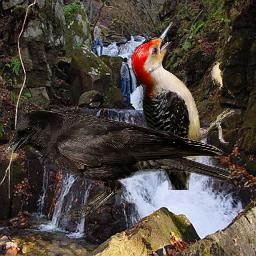Crow: (2, 109, 231, 220)
Cuckoo: (210, 61, 236, 99)
Woodpecker: (131, 22, 242, 190)
